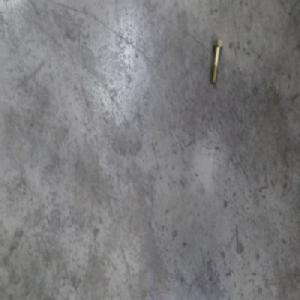Bolt: (209, 39, 223, 85)
